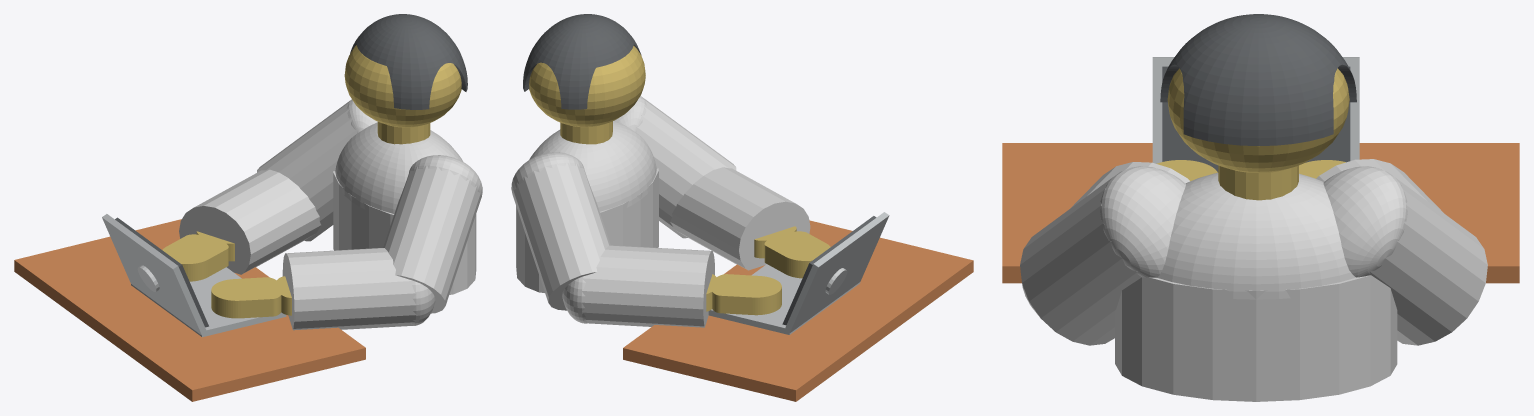
3 renders of one model, left to right at view 1: azimuth 30°, elevation 25°; view 2: azimuth 150°, elevation 25°; view 3: azimuth 270°, elevation 25°, orthographic. The views are drawn at different scales.
Parts seen in each view (by area): view 1: Mesh_Mesh_head_geo.001_lambert2SG.001; view 2: Mesh_Mesh_head_geo.001_lambert2SG.001; view 3: Mesh_Mesh_head_geo.001_lambert2SG.001.
Part boxes in pixels (box(x1,y1,x2,y2)): Mesh_Mesh_head_geo.001_lambert2SG.001: box(14, 14, 482, 401); Mesh_Mesh_head_geo.001_lambert2SG.001: box(511, 14, 973, 401); Mesh_Mesh_head_geo.001_lambert2SG.001: box(1002, 14, 1519, 401).
Size of the model in its own units: 200 by 132 by 175.
